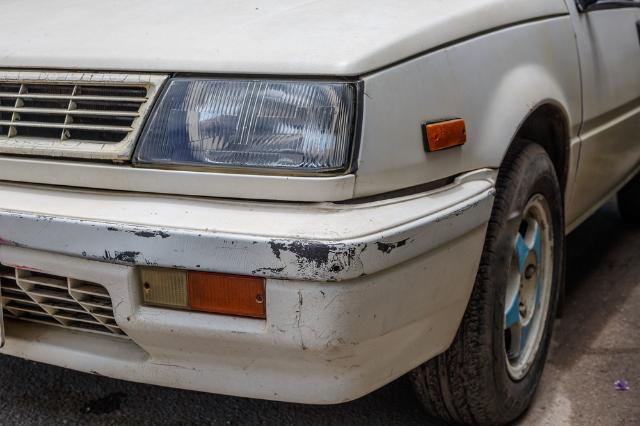scratch: (252, 234, 424, 282)
